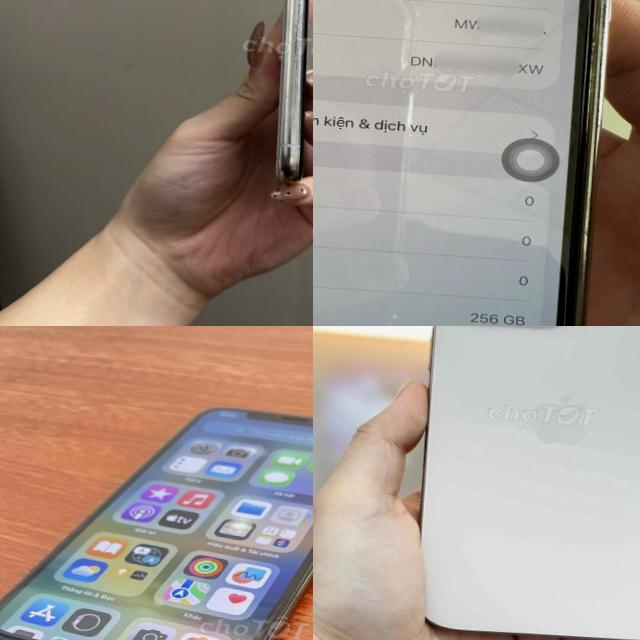gen_11: (313, 0, 640, 326)
gen_16: (389, 326, 640, 640)
gen_x_xs: (0, 409, 313, 640), (256, 0, 313, 181)
